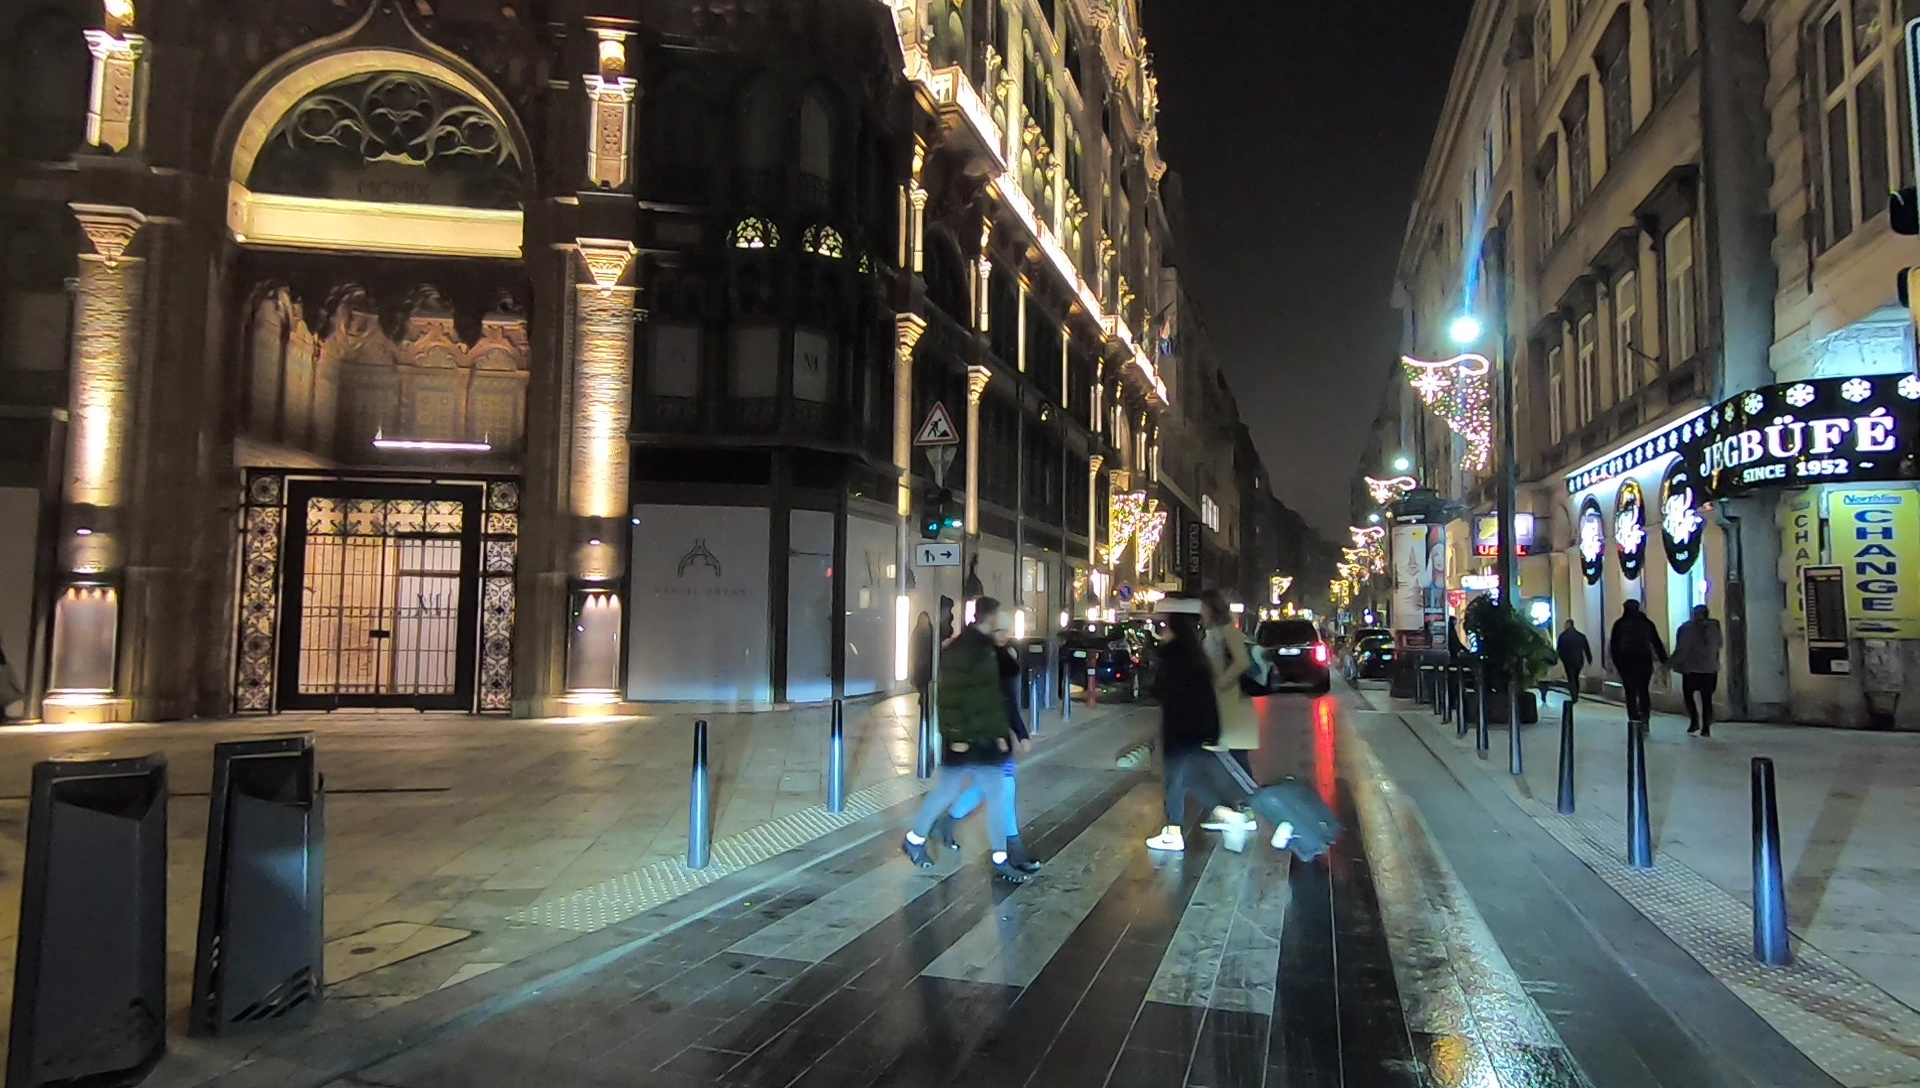person: (903, 597, 1025, 875), (1151, 616, 1246, 854), (1191, 594, 1262, 831), (1611, 601, 1664, 732), (1672, 607, 1723, 736), (908, 610, 936, 704), (1559, 621, 1590, 701)
